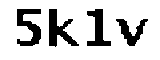1: (82, 4, 115, 55)
5: (11, 6, 44, 51)
k: (46, 7, 83, 50)
v: (115, 16, 152, 53)
